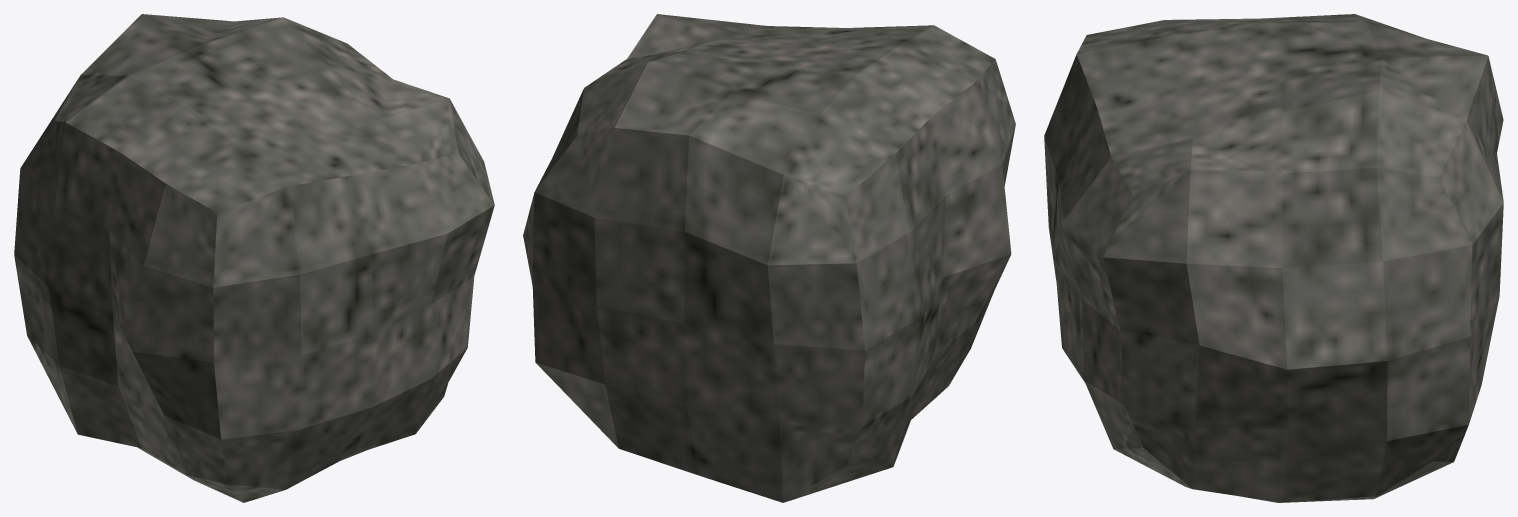
File: SM_EC_Rock_34.fbx
The picture shows the model from 3 angles, left to right: view 1: azimuth 30°, elevation 25°; view 2: azimuth 150°, elevation 25°; view 3: azimuth 270°, elevation 25°; orthographic projection. The views are drawn at different scales.
Visible parts, largest first — view 1: SM_EC_Rock_34; view 2: SM_EC_Rock_34; view 3: SM_EC_Rock_34.
Part boxes in pixels (x1,y1,x2,y2): SM_EC_Rock_34: [14, 14, 494, 502]; SM_EC_Rock_34: [523, 14, 1015, 502]; SM_EC_Rock_34: [1044, 14, 1503, 502].
Size of the model in its own units: 0.5673 by 0.5359 by 0.5481.
